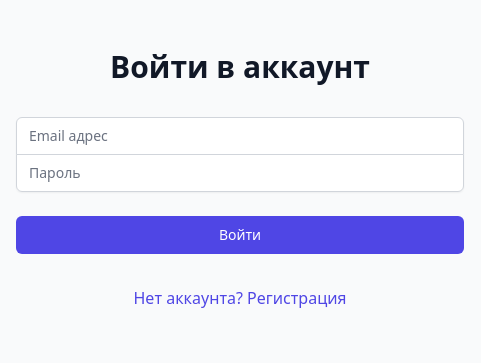
Test: Login › shows error message for unauthorized login
The image size is (481, 363).
In the field labelled "Email адрес": (240, 136) [16,116,464,154], type "test@example.com"
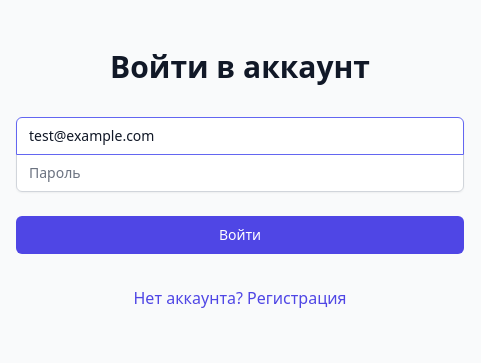
In the password field labelled "Пароль": (240, 172) [16,154,464,192], type "password123"
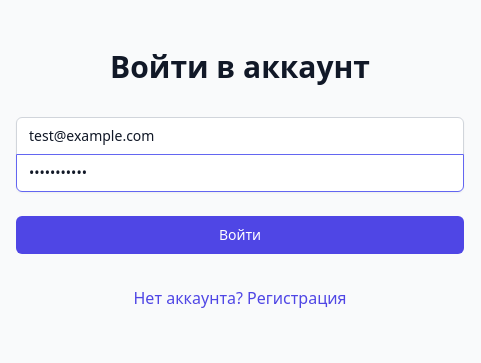
Click the button "Войти": (240, 234) [16,216,464,254]
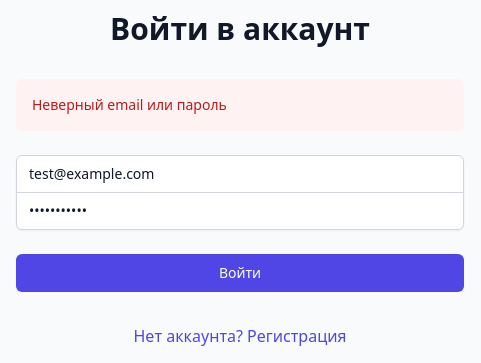
expect the text "Неверный email или пароль" is shown: met, box [32,94,227,114]
